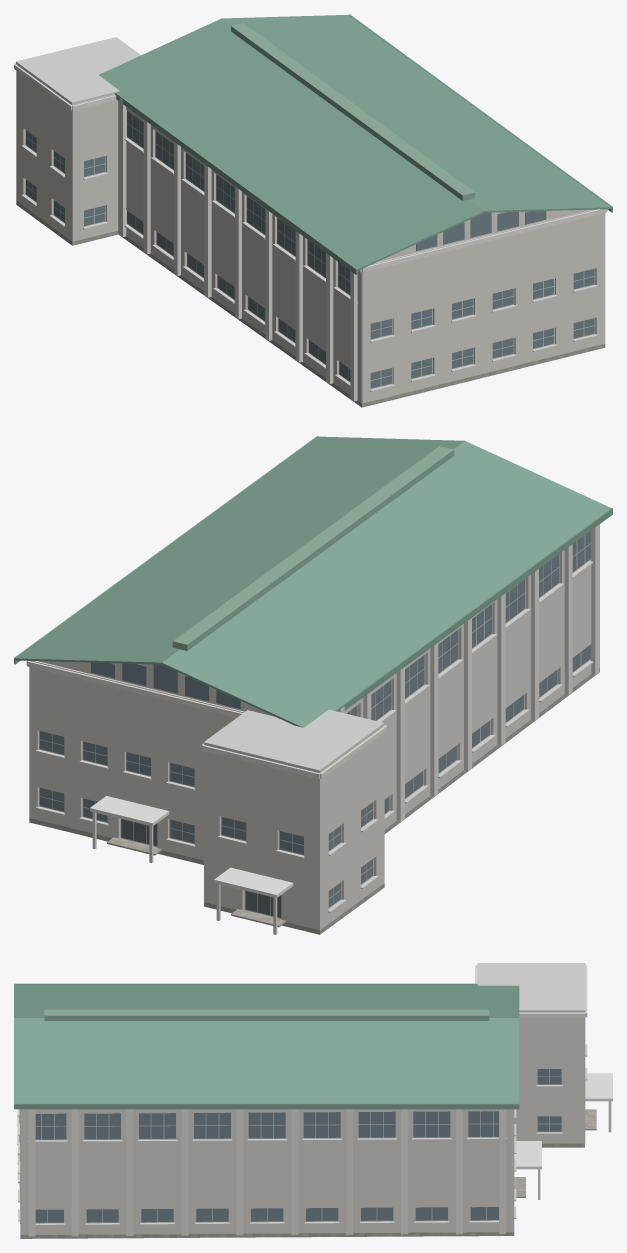
3 views of the same model, one above another, from view 1: azimuth 30°, elevation 25°; view 2: azimuth 150°, elevation 25°; view 3: azimuth 270°, elevation 25° (orthographic). The views are drawn at different scales.
Visible parts, largest first — view 1: gym__greenroof, gym__wall, gym__glass, gym__pier, gym__roof, gym__ridge, gym__frame, gym__sill, gym__stone, gym__band; view 2: gym__greenroof, gym__wall, gym__glass, gym__pier, gym__roof, gym__ridge, gym__frame, gym__band, gym__sill, gym__canopy, gym__stone, gym__doorglass (+2 smaller); view 3: gym__greenroof, gym__wall, gym__glass, gym__pier, gym__ridge, gym__roof, gym__frame, gym__sill, gym__stone, gym__canopy, gym__band, gym__threshold-n0.
Part boxes in pixels (x1,y1,x2,y2): gym__greenroof: [99, 14, 612, 274]; gym__wall: [16, 64, 605, 403]; gym__glass: [26, 111, 594, 388]; gym__pier: [119, 97, 357, 401]; gym__roof: [16, 37, 140, 104]; gym__ridge: [231, 23, 474, 200]; gym__frame: [25, 114, 595, 389]; gym__sill: [21, 138, 598, 391]; gym__stone: [16, 201, 605, 407]; gym__band: [14, 63, 607, 272]; gym__greenroof: [14, 436, 612, 727]; gym__wall: [29, 524, 599, 930]; gym__glass: [40, 531, 590, 907]; gym__pier: [340, 525, 599, 821]; gym__roof: [203, 709, 384, 772]; gym__ridge: [172, 446, 454, 650]; gym__frame: [39, 535, 590, 918]; gym__band: [26, 661, 387, 778]; gym__sill: [36, 561, 593, 912]; gym__canopy: [90, 796, 293, 898]; gym__stone: [29, 668, 599, 934]; gym__doorglass: [121, 819, 281, 917]; gym__greenroof: [14, 983, 519, 1109]; gym__wall: [19, 965, 585, 1234]; gym__glass: [35, 1069, 561, 1222]; gym__pier: [28, 1109, 505, 1236]; gym__ridge: [44, 1009, 489, 1020]; gym__roof: [477, 963, 585, 1011]; gym__frame: [35, 1069, 562, 1223]; gym__sill: [17, 1044, 587, 1225]; gym__stone: [20, 1143, 584, 1238]; gym__canopy: [514, 1073, 612, 1169]; gym__band: [475, 964, 587, 1017]; gym__threshold-n0: [514, 1109, 596, 1197].
Bounding box in the file's own units: 28.79 × 15.96 × 51.55.
Materials: 13 (1 with a texture image).
